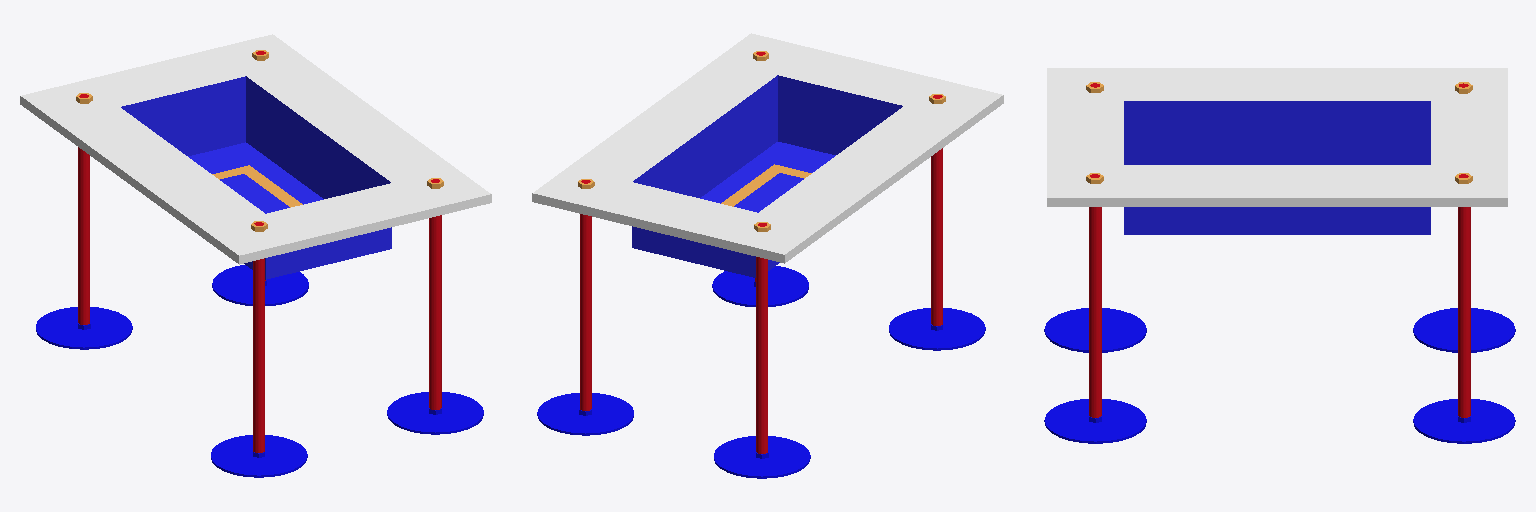
The robot description file, URDF, robot "marker_target_o":
<robot name="marker_target_o">
  <link name="marker_target_o">
    <inertial>
      <origin rpy="0 0 0" xyz="0.31 0.46 0"/>
      <mass value="10"/>
      <inertia ixx="0" ixy="0" ixz="0" iyy="0" iyz="0" izz="0"/>
    </inertial>
    <visual>
      <origin rpy="0 0 0" xyz="0 0 0"/>
      <geometry>
        <mesh filename="package://varun_gazebo/models/marker_target_o/meshes/marker_target_o.dae"/>
      </geometry>
    </visual>
    <collision>
      <origin rpy="0 0 0" xyz="0 0 0"/>
      <geometry>
        <mesh filename="package://varun_gazebo/models/marker_target_o/meshes/marker_target_o.dae"/>
      </geometry>
    </collision>
  </link>
</robot>

--- Render facts (derived) ---
The picture shows the robot from 3 angles, left to right: view 1: azimuth 30°, elevation 25°; view 2: azimuth 150°, elevation 25°; view 3: azimuth 270°, elevation 25°; orthographic projection.
Robot: marker_target_o — 1 links, 0 joints (none); root link marker_target_o; default pose: every joint at zero.
Visible links, largest first — view 1: marker_target_o; view 2: marker_target_o; view 3: marker_target_o.
Link boxes in pixels (x1,y1,x2,y2): marker_target_o: [20, 34, 491, 477]; marker_target_o: [532, 33, 1003, 478]; marker_target_o: [1044, 68, 1515, 443].
Size in the robot's own frame: 0.6221 by 0.9201 by 0.53 metres.
Meshes: 1 distinct files referenced, 1 mesh visuals loaded (1 Collada DAE).
